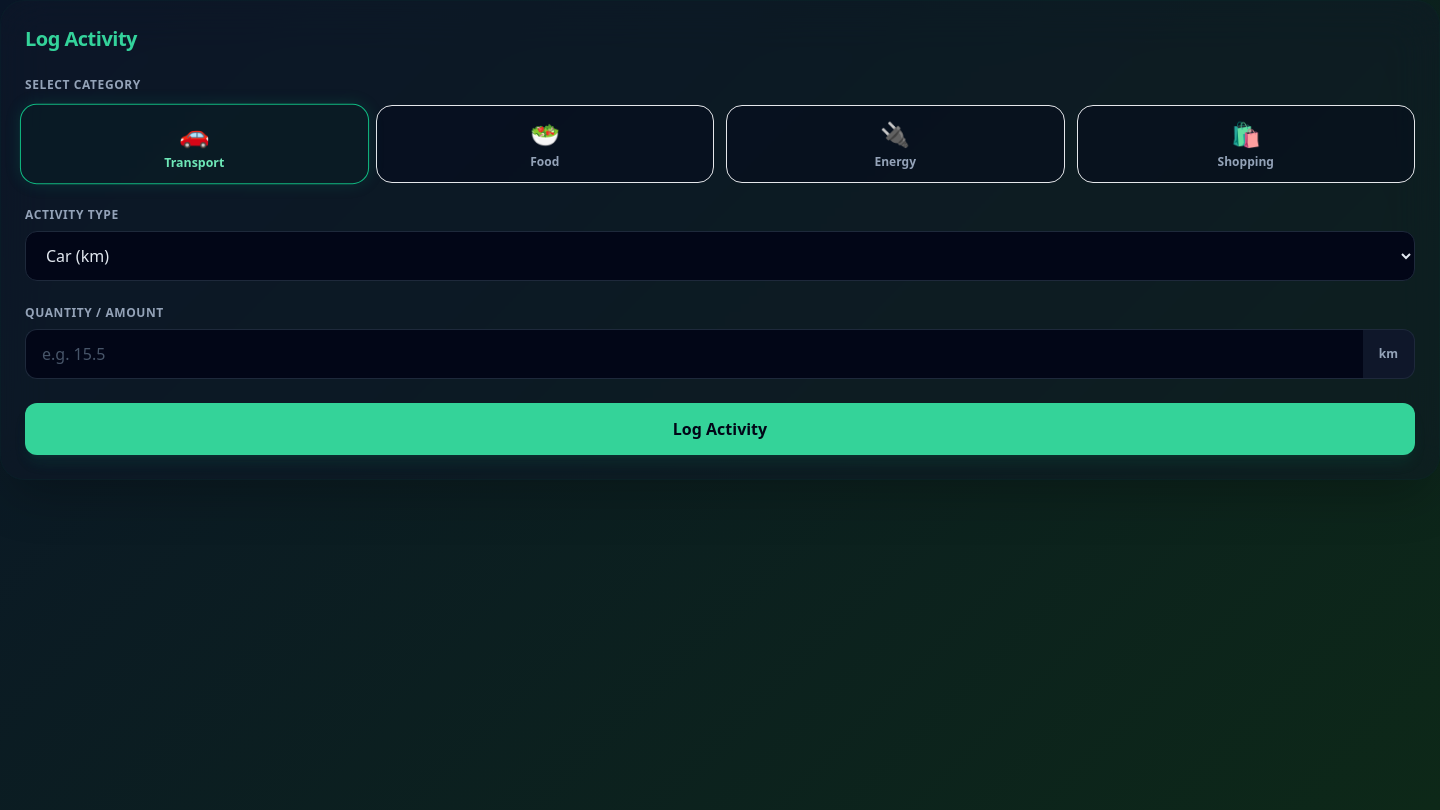
Test: ActivityForm Component › resets type selection to defaults when category is switched
The width and height of the screenshot is (1440, 810).
Select energy
Click the button "🔌 Energy".
click(895, 144)  # box [726,105,1064,183]
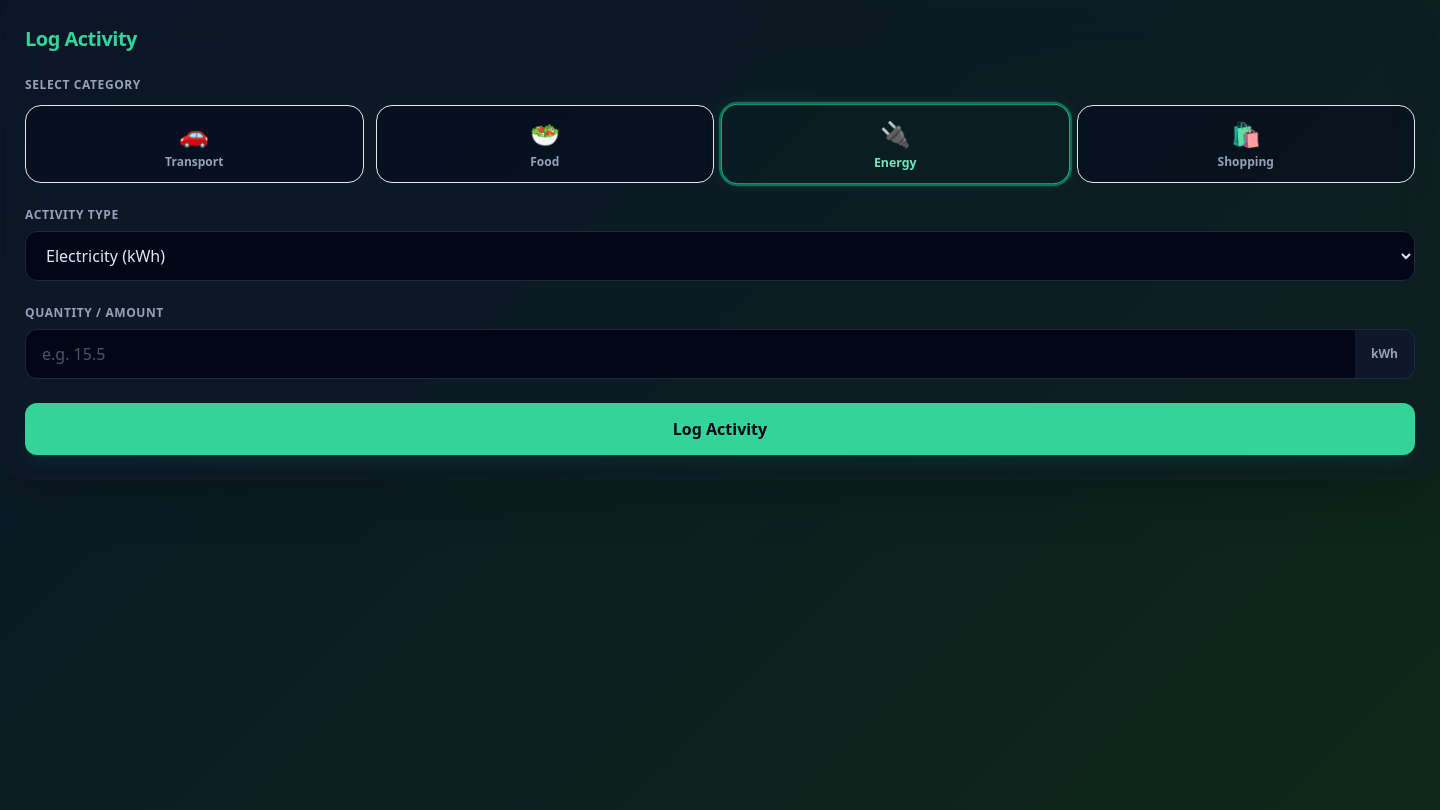
Check: the dropdown labelled "Activity Type" shows "Electricity (kWh)", box [25,231,1415,281]
Select transport again
Click the button "🚗 Transport".
click(194, 144)  # box [25,105,364,183]
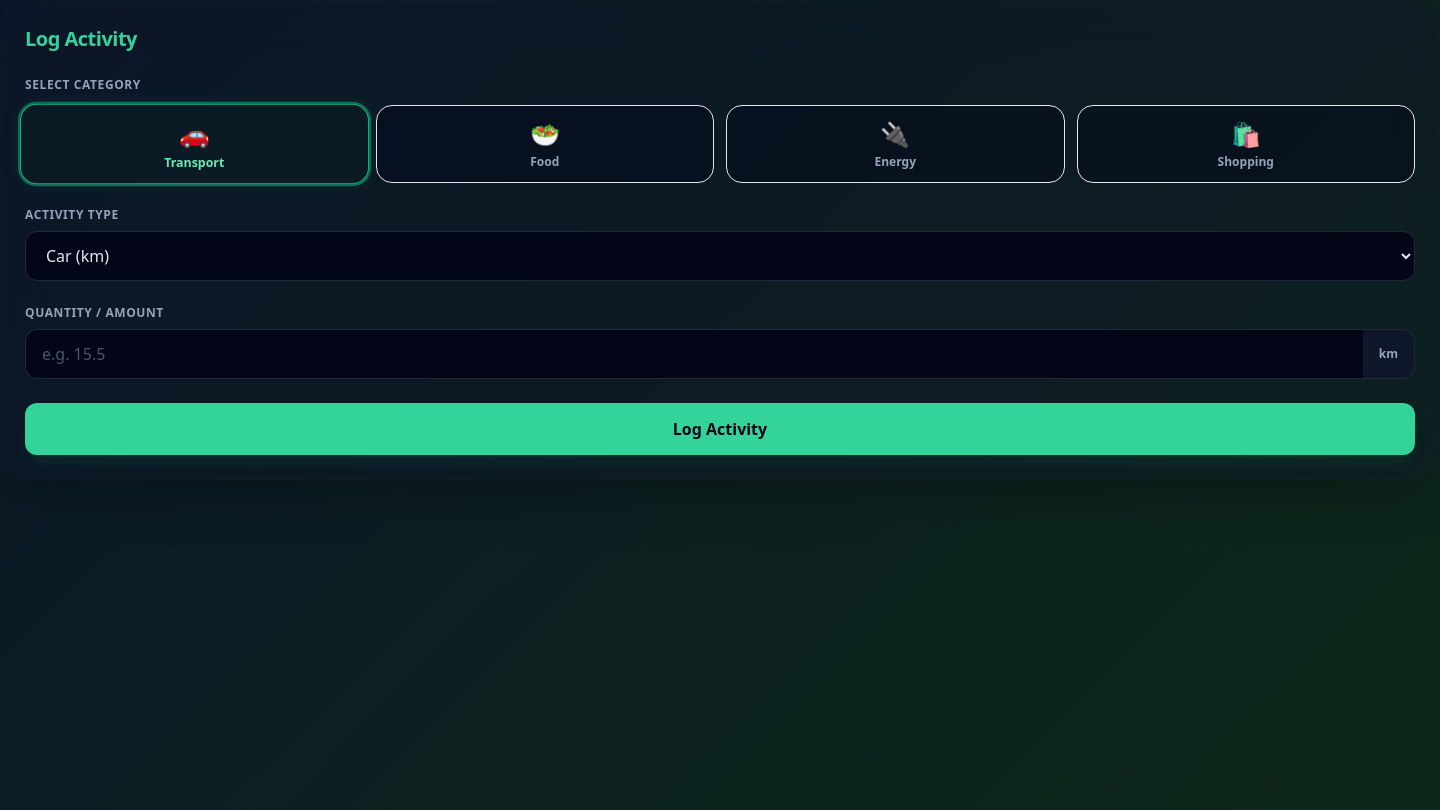
Check: the dropdown labelled "Activity Type" shows "Car (km)", box [25,231,1415,281]
